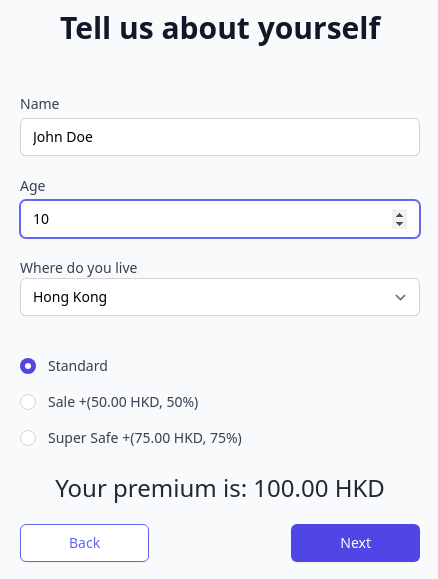
Test: Start Page Spec › Complete form inputs › HK premium should be 150 for 10yrs old - sale
The image size is (438, 579).
Click the radio button labelled "Sale +(50.00 HKD, 50%)" at (28, 402), box top-left (20, 394), bottom-right (36, 410)
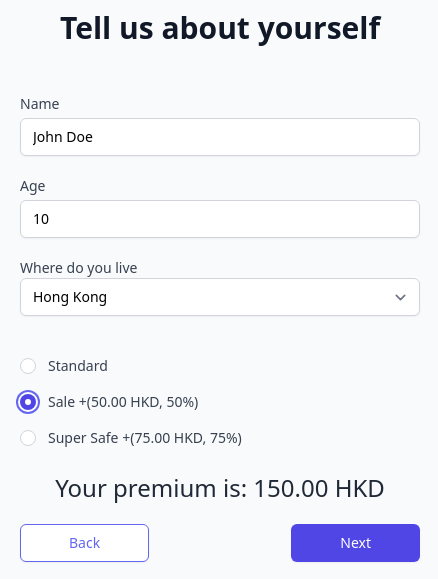
Result: the heading "Your premium is: 150.00 HKD" is shown at top-left (55, 471), bottom-right (385, 504)
